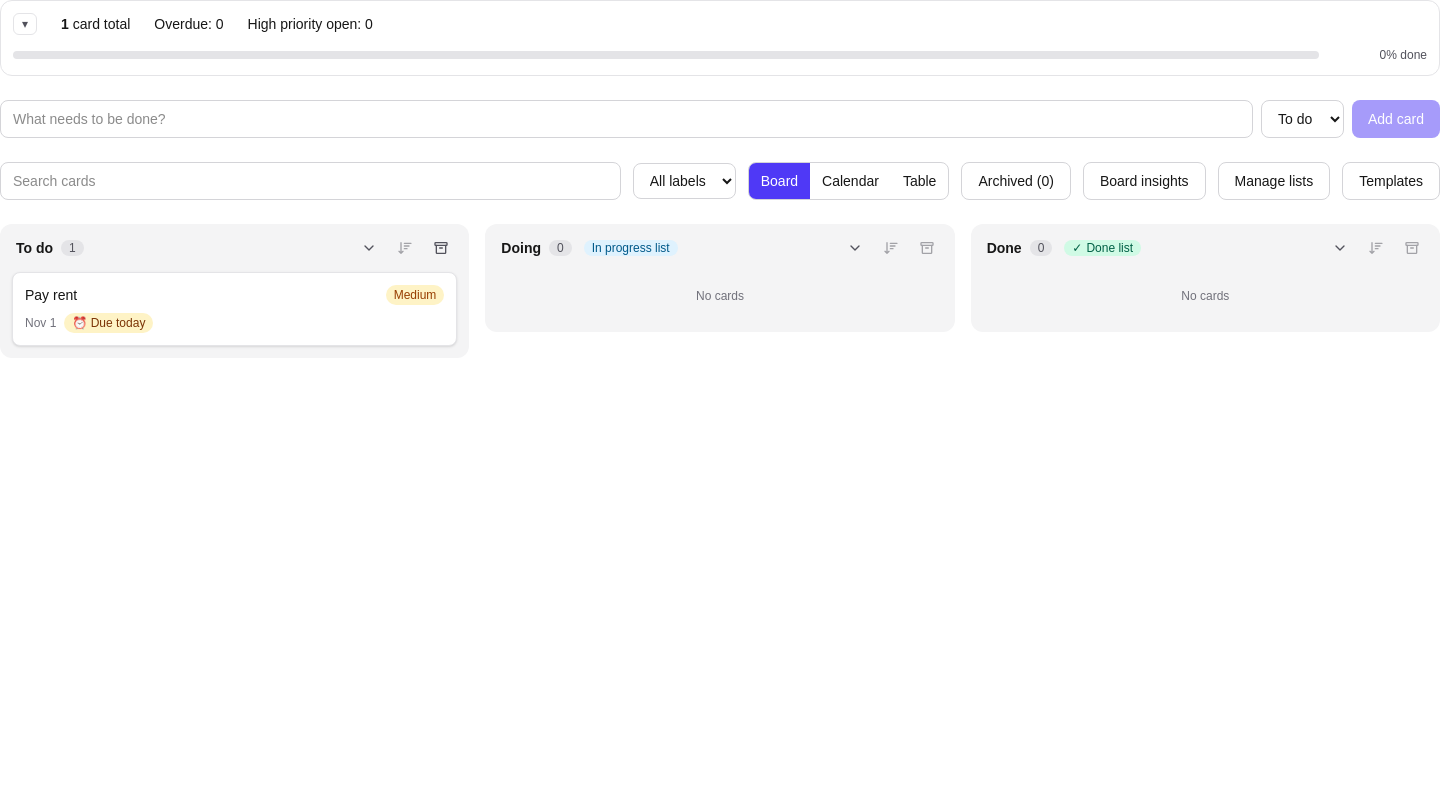
Test: <Board /> calendar view › opens the card dialog from the calendar
Click the radio button labelled "Calendar" at (850, 181), box [822,173,879,189]
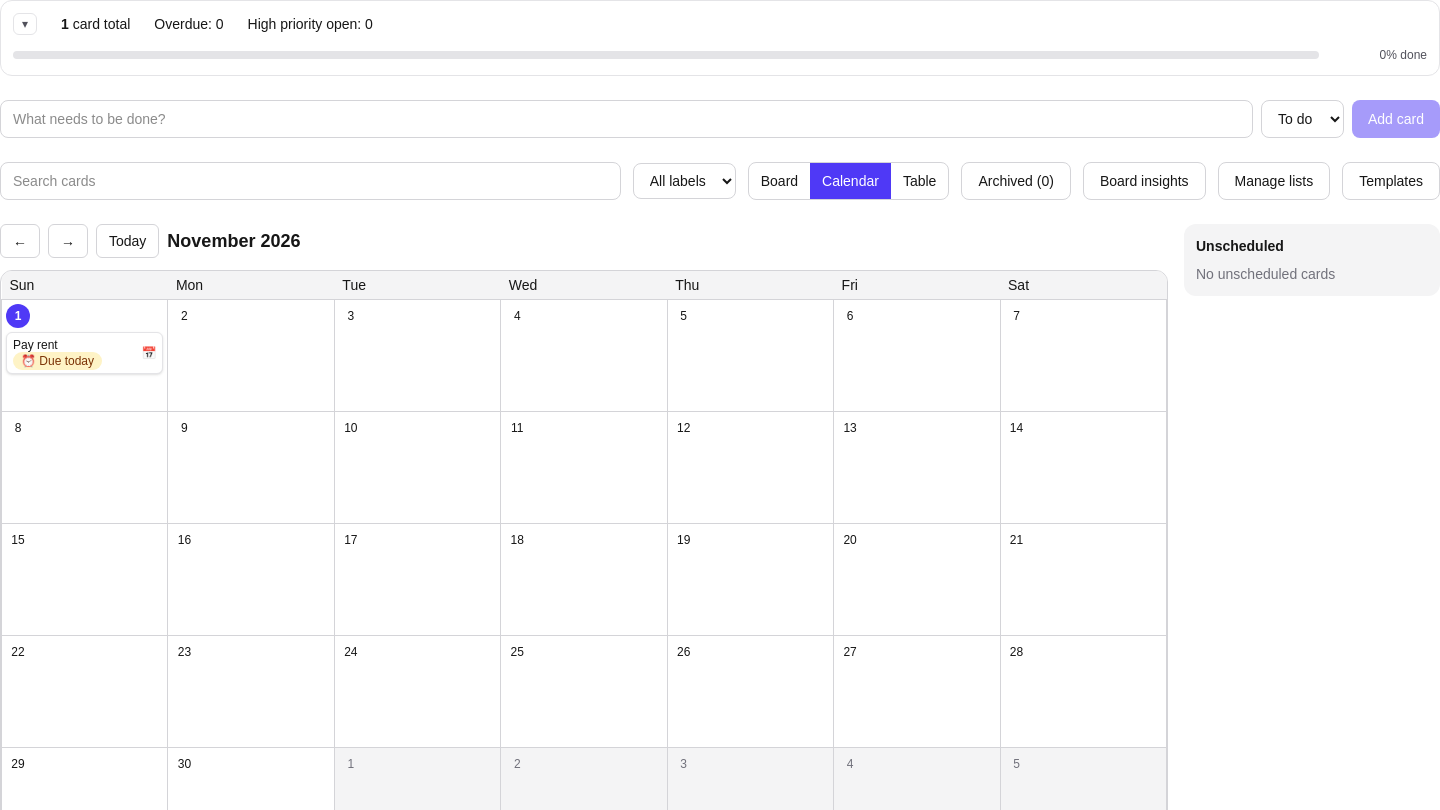
Click the button "Pay rent ⏰ Due today" at (69, 353), box [7,333,132,373]
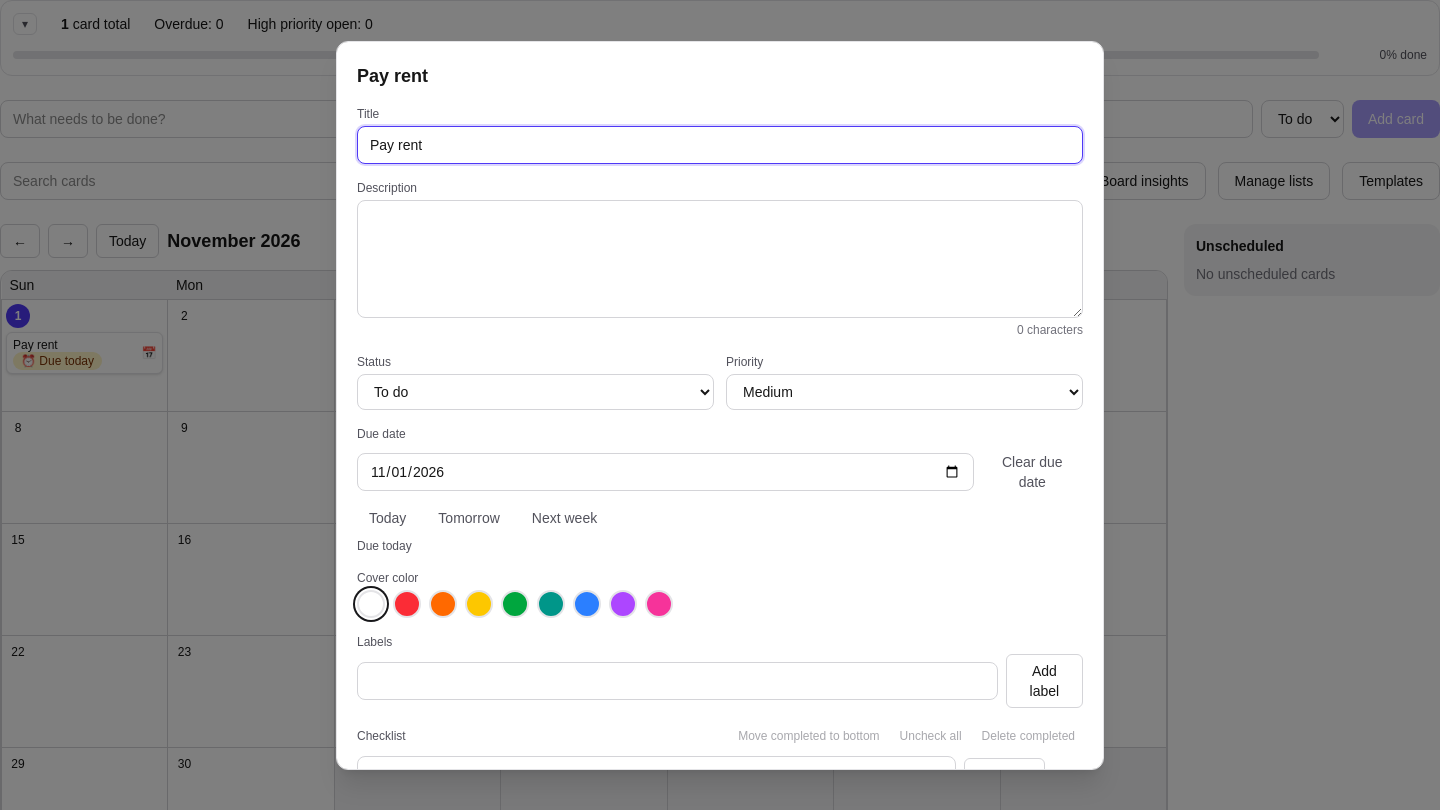
Expected: the dialog "Pay rent" is shown, [336,40,1104,770]
